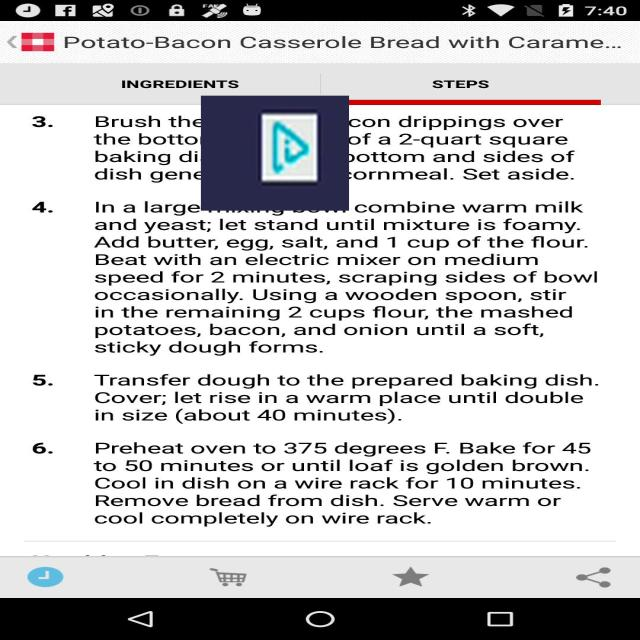sneaking: (201, 96, 349, 210)
